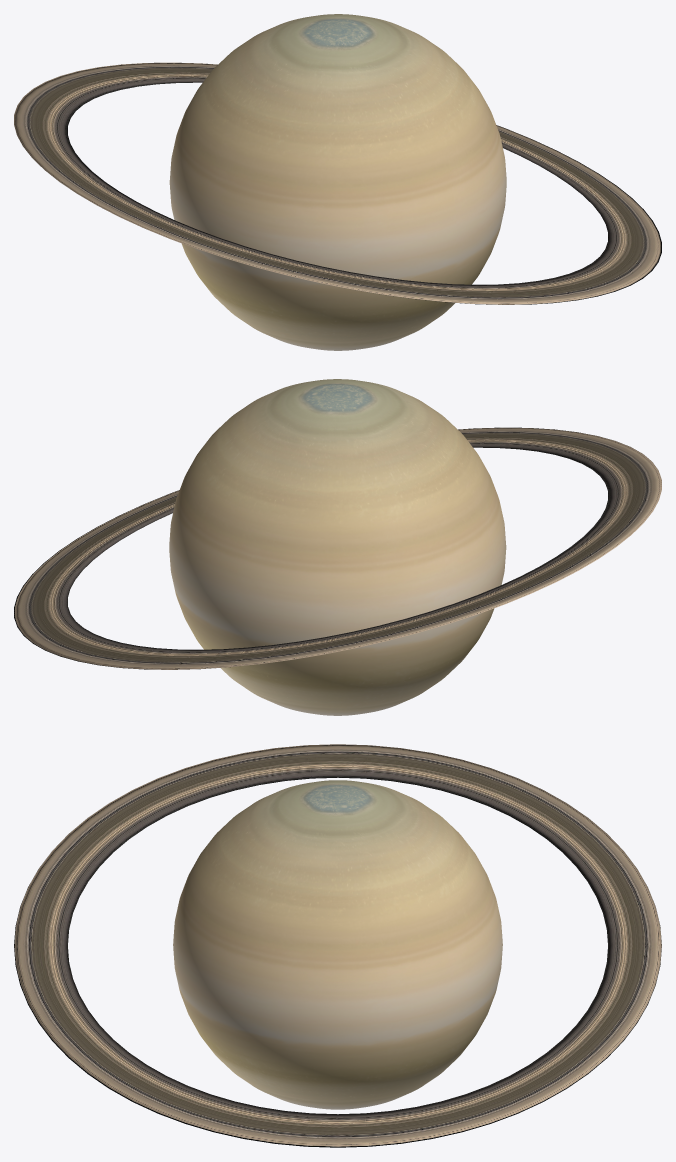
Rendered from saturn.glb.
3 views of the same model, one above another, from view 1: azimuth 30°, elevation 25°; view 2: azimuth 150°, elevation 25°; view 3: azimuth 270°, elevation 25° (orthographic). The views are drawn at different scales.
Parts seen in each view (by area): view 1: Sphere, Circle; view 2: Sphere, Circle; view 3: Sphere, Circle.
Boxes of the visible parts, x1,y1,x2,y2 form: Sphere: (169, 14, 506, 350); Circle: (14, 62, 661, 304); Sphere: (169, 379, 506, 715); Circle: (14, 427, 661, 669); Sphere: (173, 780, 502, 1109); Circle: (14, 744, 661, 1147).
Size of the model in its own units: 382 by 200 by 393.
2 materials, 2 textured.
